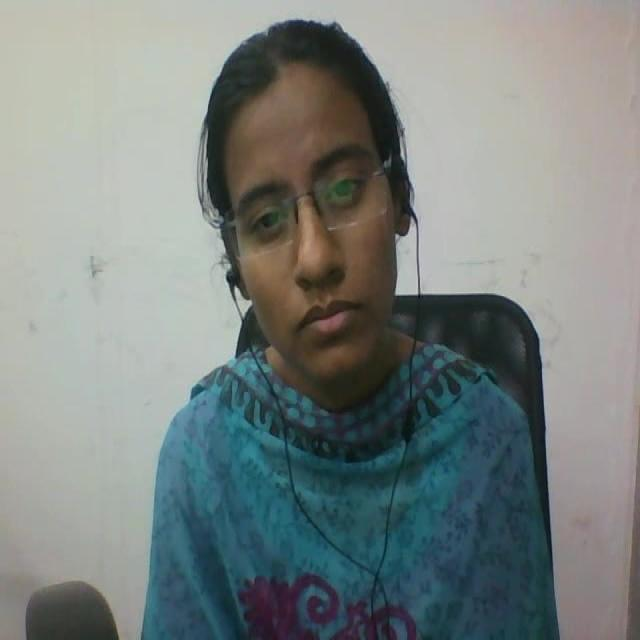Engaged: (172, 0, 451, 413)
